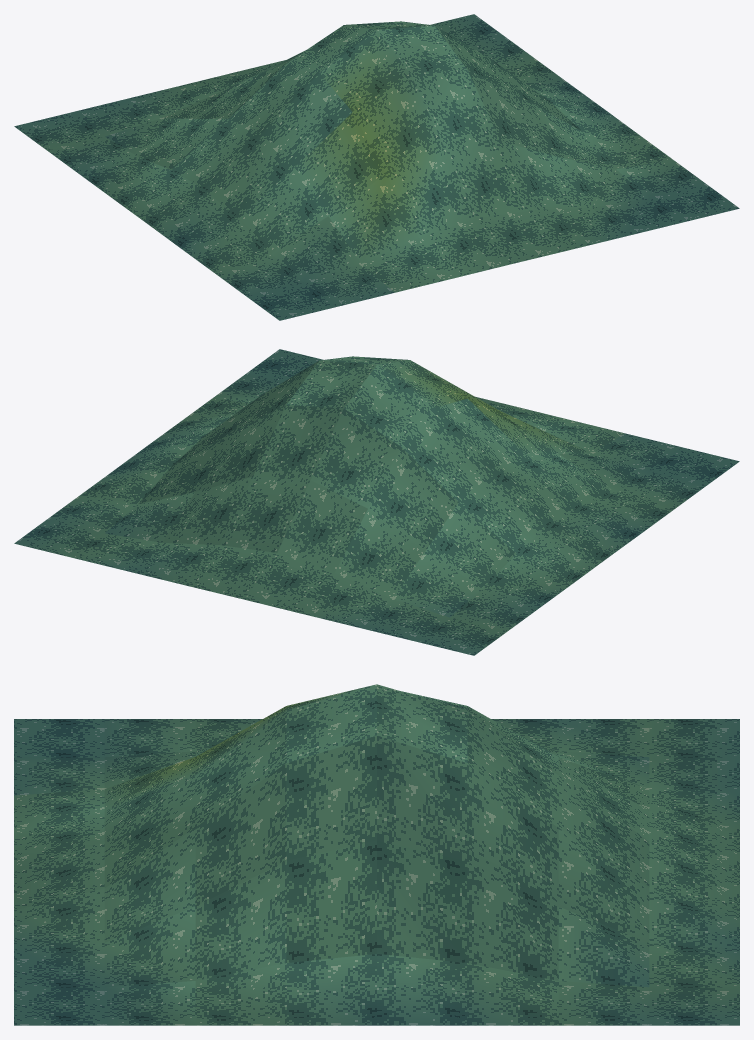
The model's file is mter.hill__big.glb.
3 views of the same model, one above another, from view 1: azimuth 30°, elevation 25°; view 2: azimuth 150°, elevation 25°; view 3: azimuth 270°, elevation 25° (orthographic). The views are drawn at different scales.
Parts seen in each view (by area): view 1: kit_shell_hill; view 2: kit_shell_hill; view 3: kit_shell_hill.
Part boxes in pixels (bbox=[...]): kit_shell_hill: bbox=[14, 14, 739, 320]; kit_shell_hill: bbox=[14, 349, 739, 655]; kit_shell_hill: bbox=[14, 684, 739, 1025].
Bounding box in the file's own units: 28 × 8 × 28.
1 material, 1 textured.
